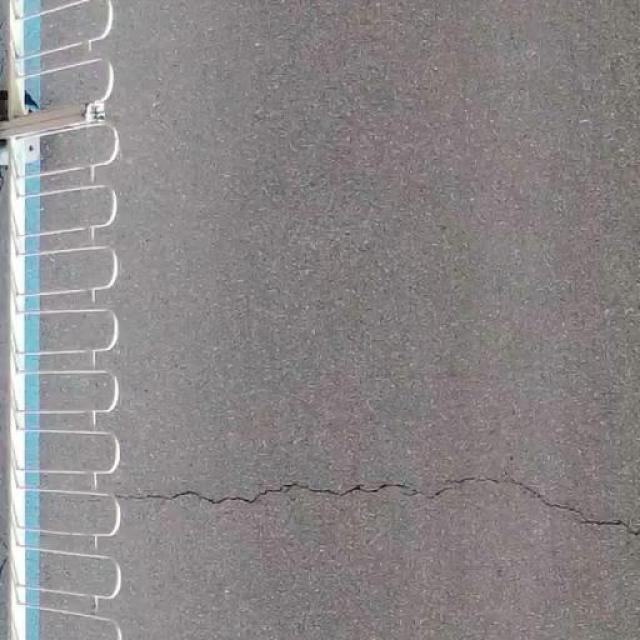Crack: (26, 466, 628, 546)
